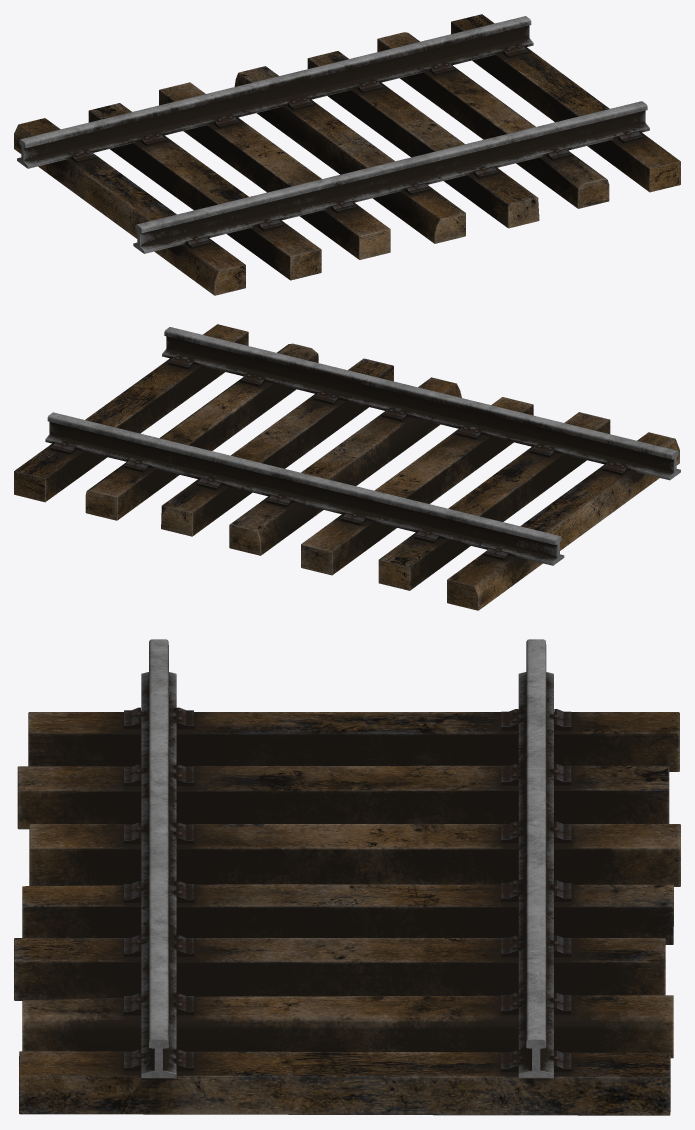
Rendered from railway track.glb.
3 renders of one model, top to bottom at view 1: azimuth 30°, elevation 25°; view 2: azimuth 150°, elevation 25°; view 3: azimuth 270°, elevation 25°, orthographic. The views are drawn at different scales.
Visible parts, largest first — view 1: railroad_gav_railroad_gav_0; view 2: railroad_gav_railroad_gav_0; view 3: railroad_gav_railroad_gav_0.
Boxes of the visible parts, x1,y1,x2,y2 form: railroad_gav_railroad_gav_0: [14, 14, 680, 295]; railroad_gav_railroad_gav_0: [14, 324, 680, 610]; railroad_gav_railroad_gav_0: [14, 639, 680, 1115].
Bounding box in the file's own units: 4 × 0.3716 × 2.82.
Materials: 1 (1 with a texture image).
